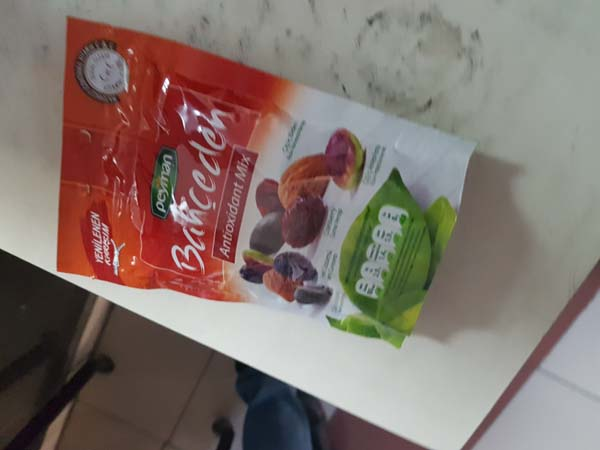bahcedenantioxidan: (50, 13, 483, 353)
